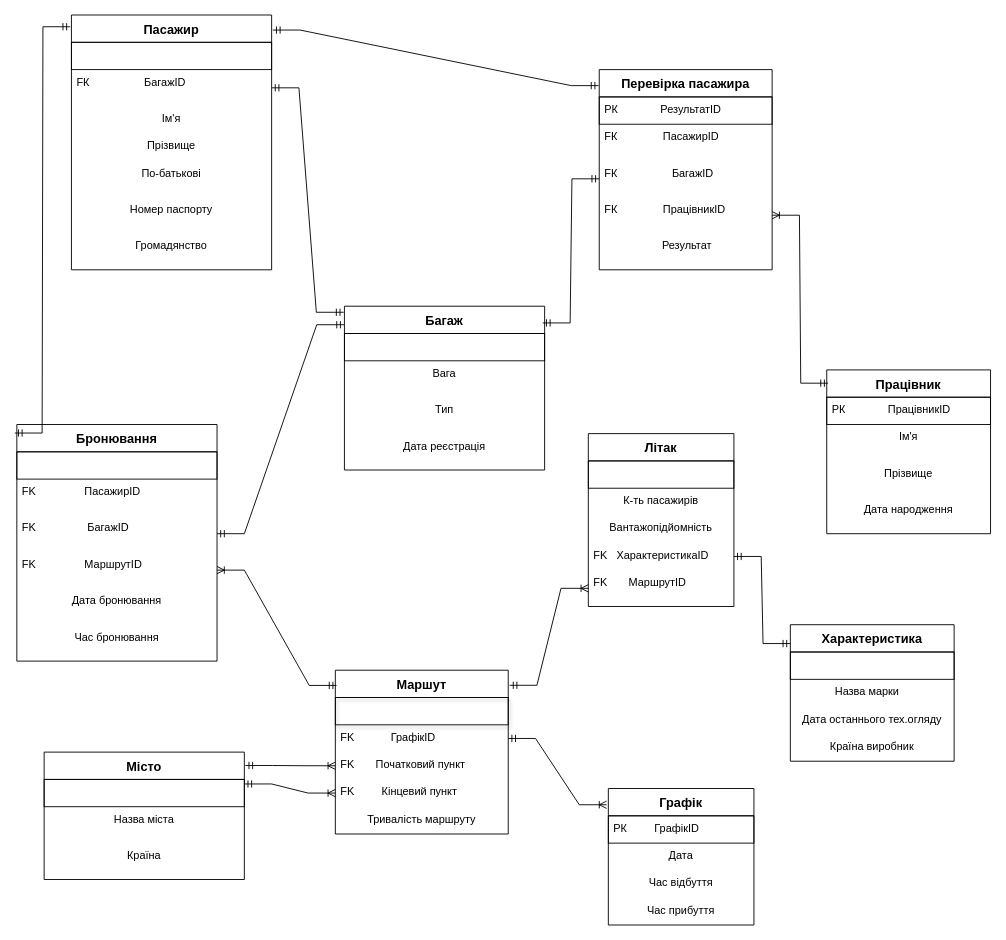
This 1006x940 diagram has some shape labels left out. The shapes that lost their labels are listed below. From the top down, each one's centre as x and y in pixels, then its label:
At (171,55): "РК ПасажирID".
At (444,347): "РК БагажID".
At (116,465): "РК БронюванняID".
At (660,474): "РК ЛітакID".
At (871,665): "РК ХарактеристикаID".
At (422,712): "РК МаршрутID".
At (143,793): "РК МістоID".
